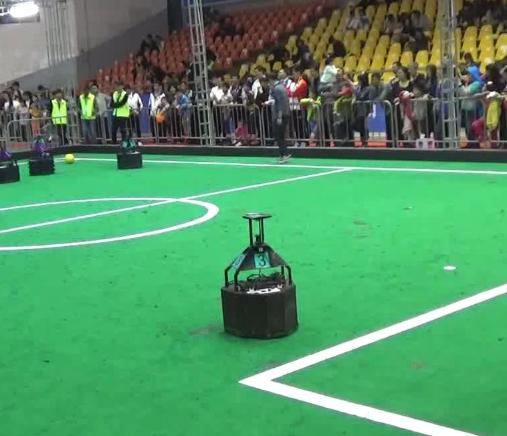robot: (218, 208, 309, 343)
